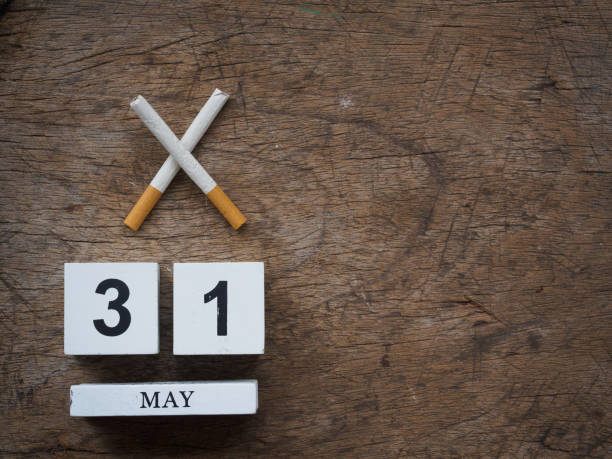cigarette: (128, 93, 247, 232), (121, 86, 231, 233)
